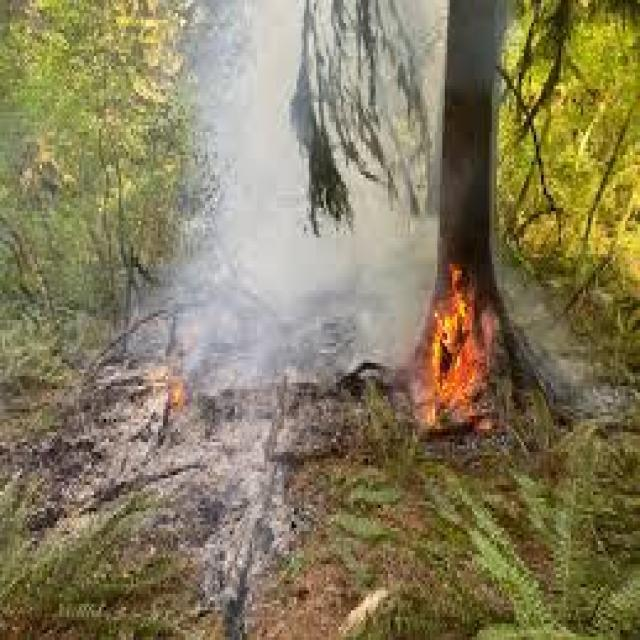Fire: (391, 244, 522, 447), (132, 323, 209, 449)
Smoke: (183, 8, 301, 367), (176, 228, 430, 362)
